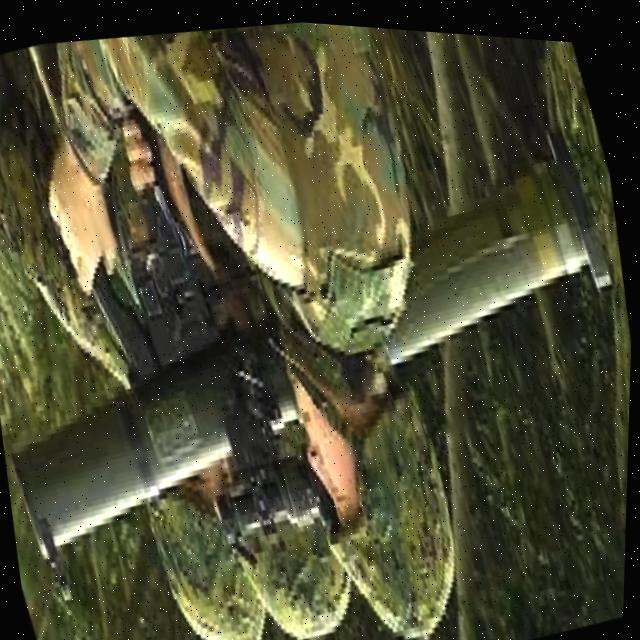rocket: (0, 68, 638, 623)
